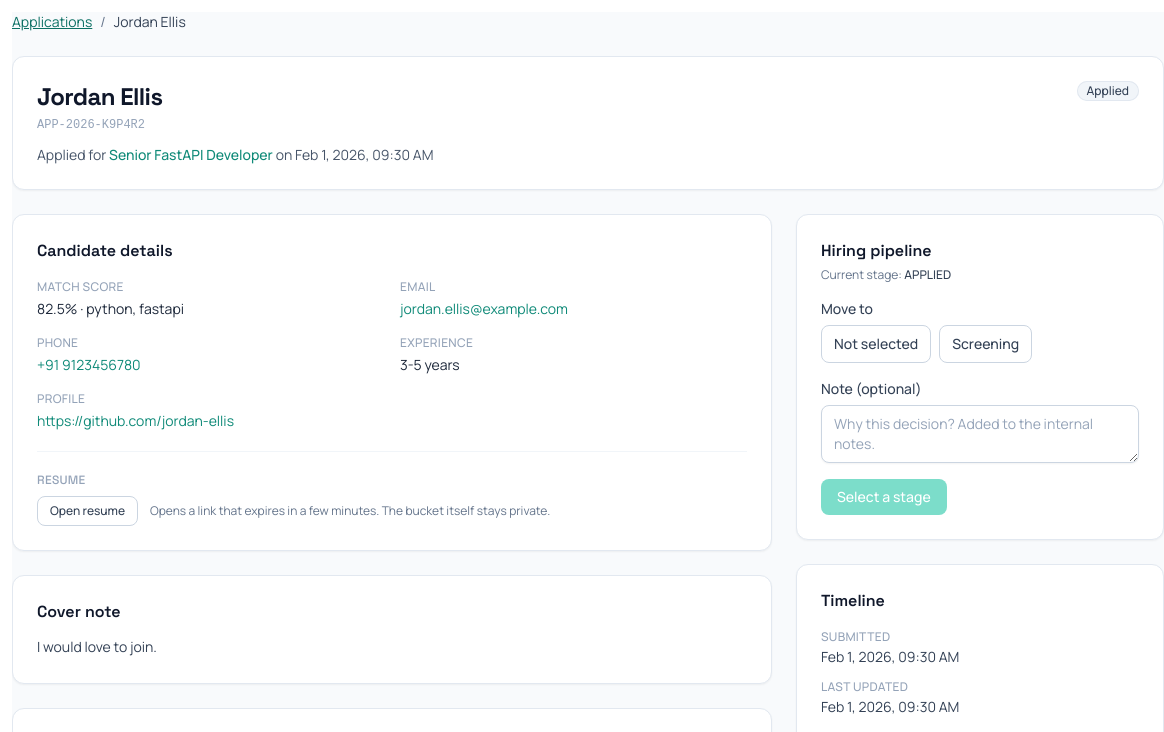
Scenario: AdminApplicationDetailPage › moves the candidate to the next stage
Check: the heading "Jordan Ellis" is shown, box [37,81,162,112]
Click the button "Screening" at point(986, 344), box [939,325,1032,363]
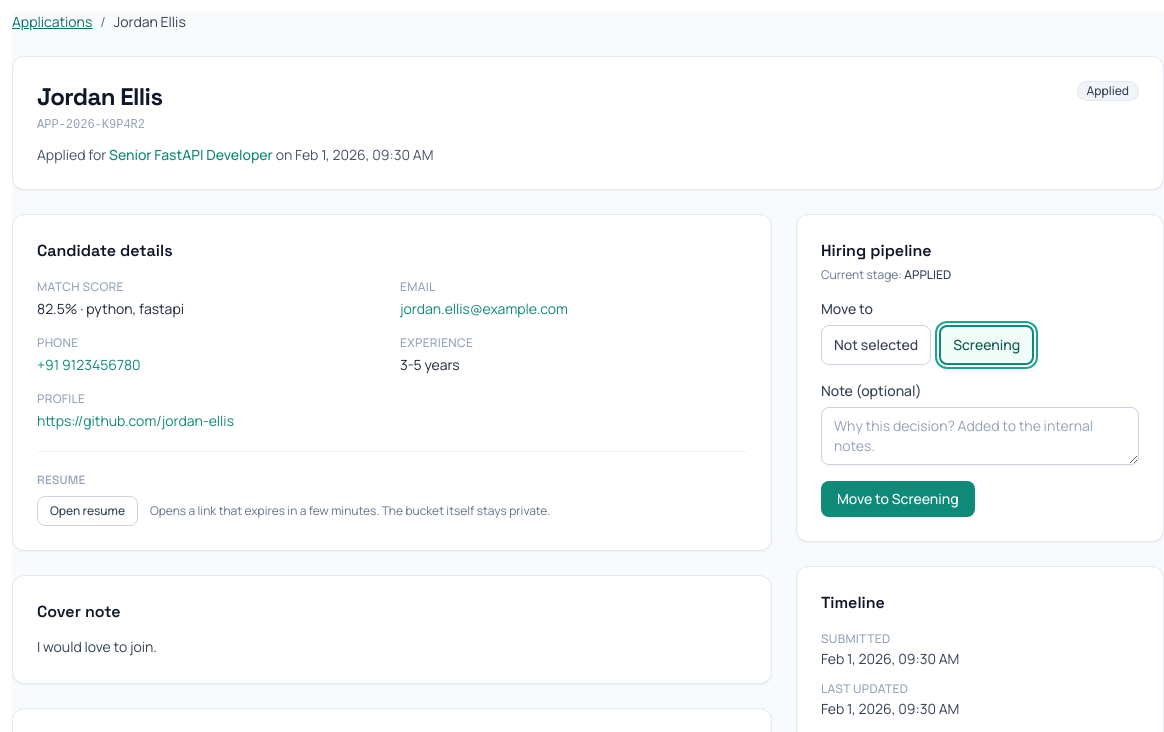
Type "Strong Python background." into the text box labelled "Note (optional)" at point(980, 436), box [821,407,1139,465]
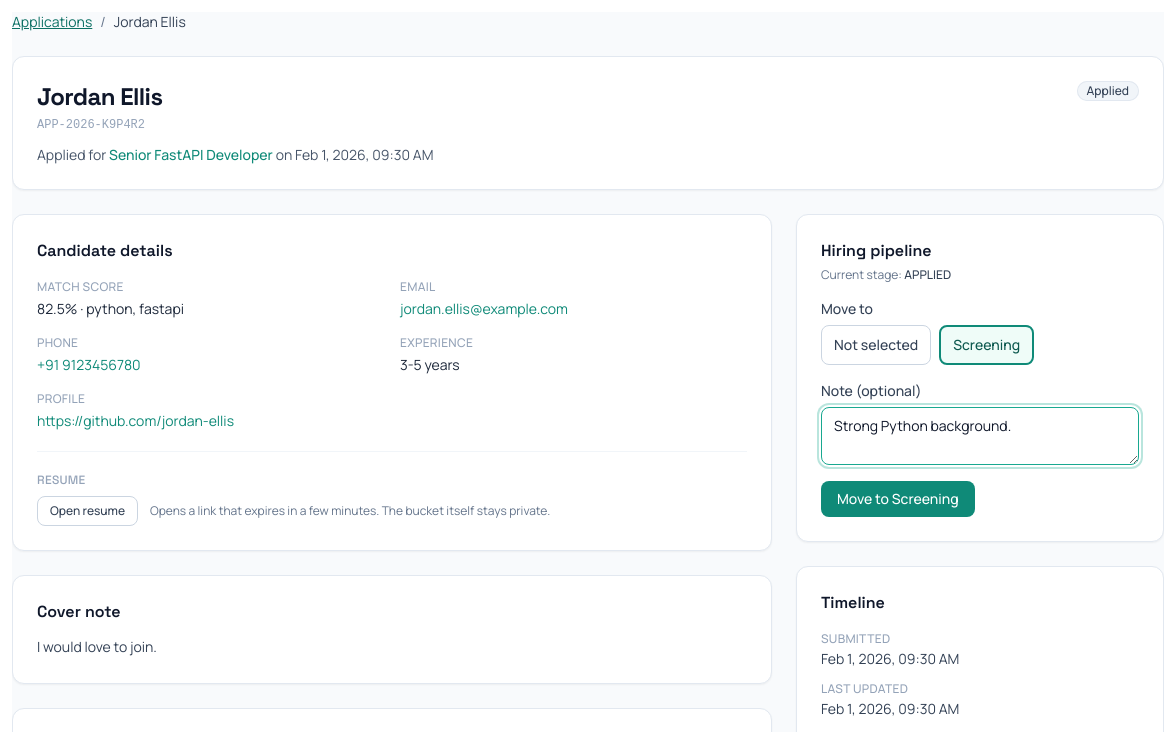
Click the button "Move to Screening" at point(898, 499), box [821,481,975,517]
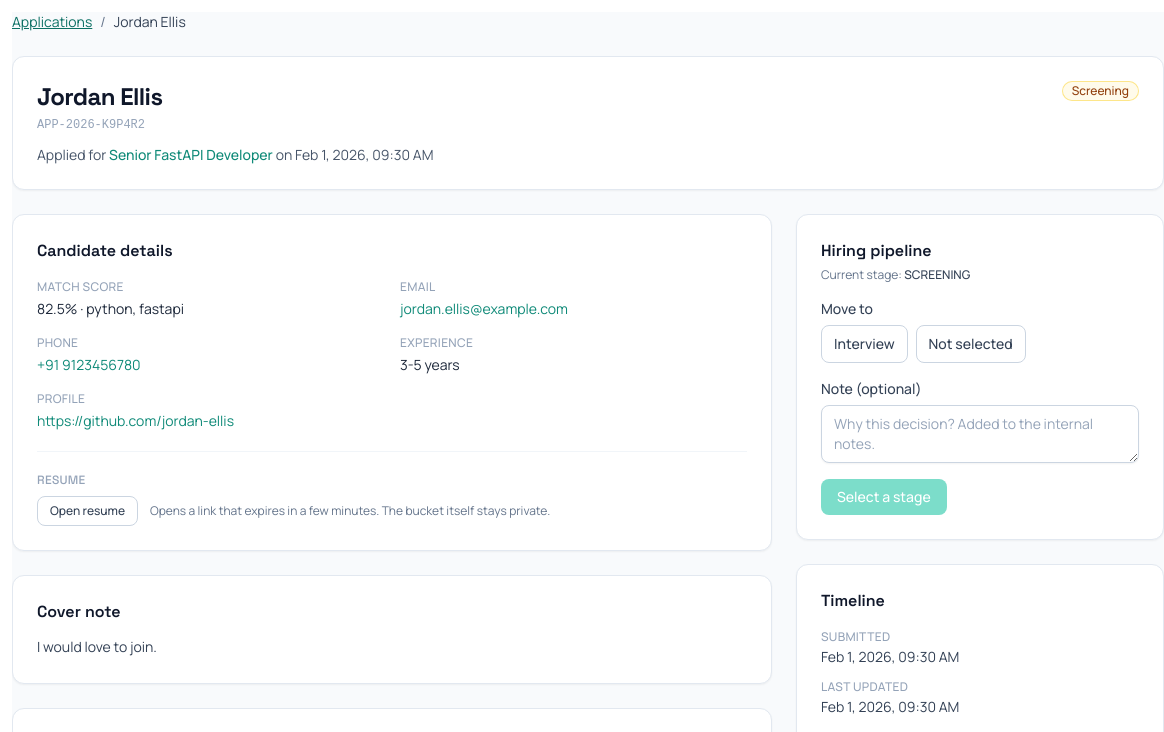
Check: the button "Interview" is shown, box [821,325,908,363]
